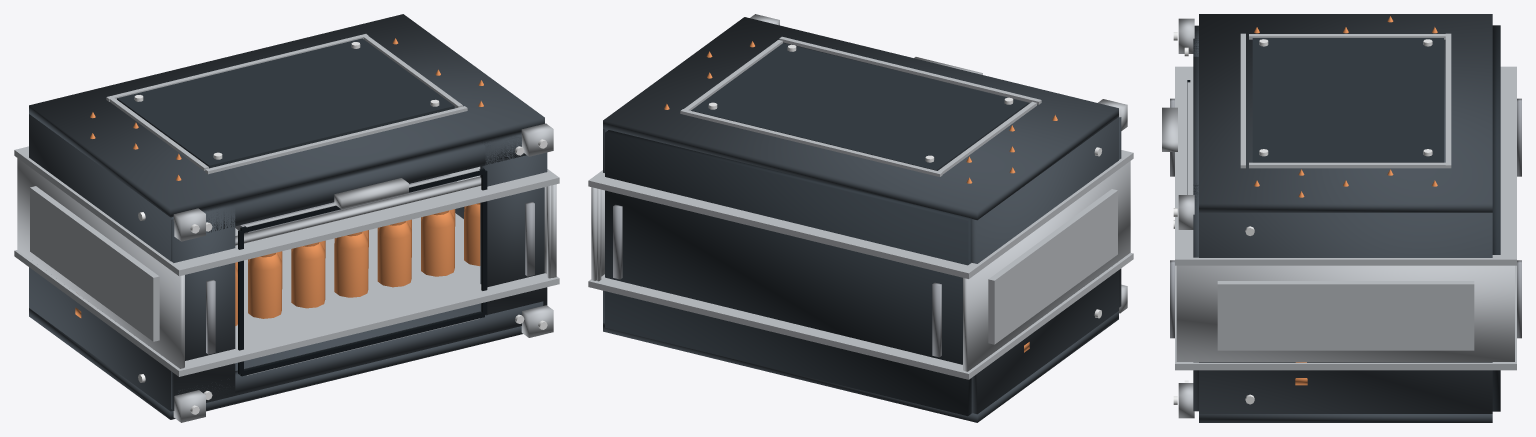
File: magazine.glb
3 renders of one model, left to right at view 1: azimuth 30°, elevation 25°; view 2: azimuth 150°, elevation 25°; view 3: azimuth 270°, elevation 25°, orthographic. The views are drawn at different scales.
Size of the model in its own units: 3.83 by 2.1 by 2.94.
